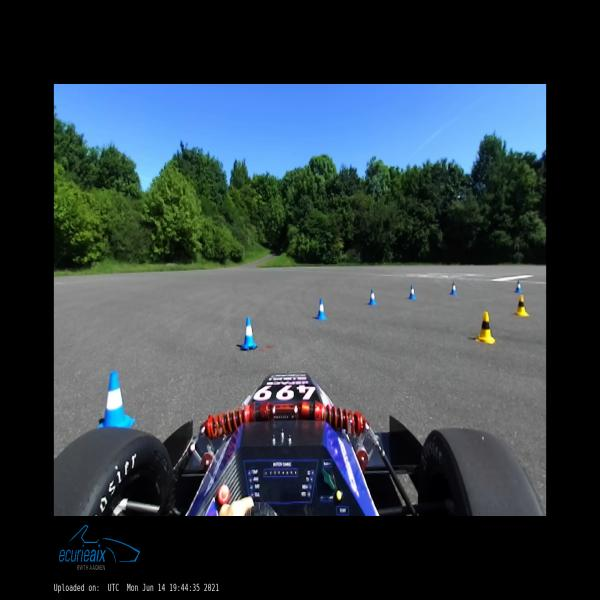blue_cone: (99, 370, 136, 429), (241, 317, 257, 350), (316, 299, 327, 320), (368, 288, 377, 306), (450, 282, 458, 295), (409, 286, 416, 300), (515, 280, 522, 293)
yellow_cone: (476, 311, 495, 344), (514, 294, 530, 317)
